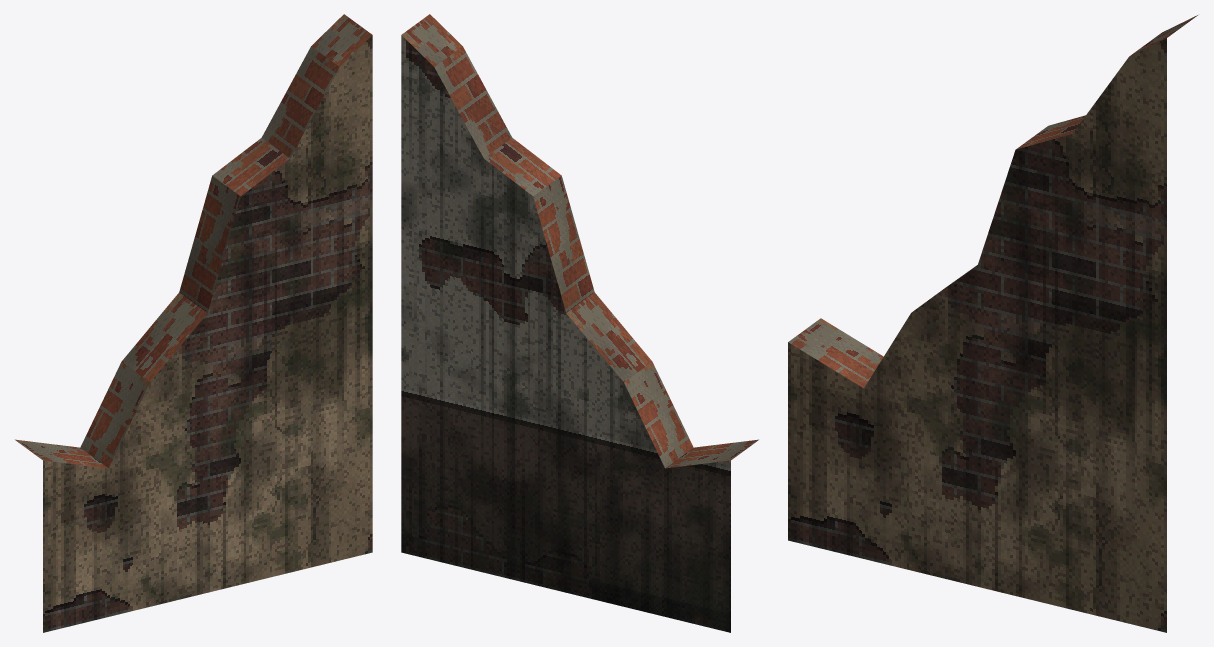
Rendered from ext_wall_ruin_lh.gltf.
3 views of the same model, side by side, from view 1: azimuth 30°, elevation 25°; view 2: azimuth 150°, elevation 25°; view 3: azimuth 330°, elevation 25° (orthographic). The views are drawn at different scales.
Visible parts, largest first — view 1: ext_wall_ruin_lh-col; view 2: ext_wall_ruin_lh-col; view 3: ext_wall_ruin_lh-col.
Boxes of the visible parts, left/top/right/bottom form: ext_wall_ruin_lh-col: left=15, top=14, right=372, bottom=632; ext_wall_ruin_lh-col: left=401, top=14, right=758, bottom=632; ext_wall_ruin_lh-col: left=788, top=15, right=1197, bottom=632.
Bounding box in the file's own units: 2 × 3 × 0.3.
Materials: 3 (3 with a texture image).
